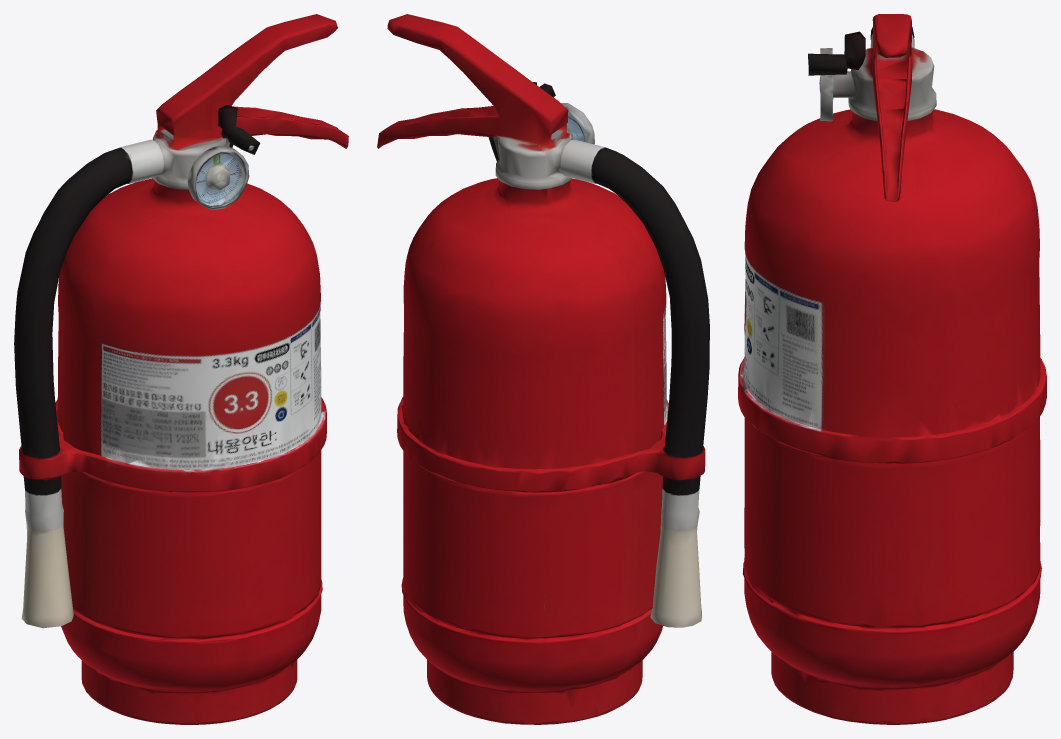
The model's file is fire_extinguisher_3d_model.fbx.
3 views of the same model, side by side, from view 1: azimuth 30°, elevation 25°; view 2: azimuth 150°, elevation 25°; view 3: azimuth 270°, elevation 25° (orthographic). The views are drawn at different scales.
Visible parts, largest first — view 1: tripo_node_58525c8f; view 2: tripo_node_58525c8f; view 3: tripo_node_58525c8f.
Part boxes in pixels (bbox=[...]): tripo_node_58525c8f: bbox=[14, 14, 348, 724]; tripo_node_58525c8f: bbox=[377, 14, 709, 724]; tripo_node_58525c8f: bbox=[738, 14, 1046, 724].
Size of the model in its own units: 0.5457 by 1 by 0.3947.
